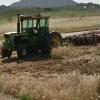Tractor: (3, 4, 61, 68)
